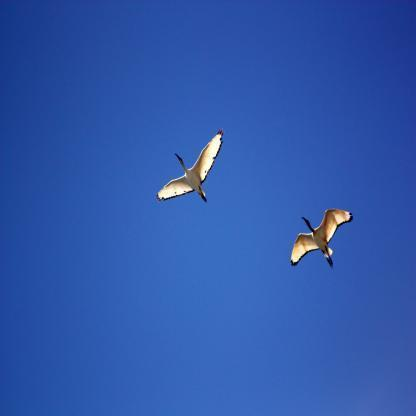bird: (157, 128, 224, 203), (289, 207, 354, 268)
